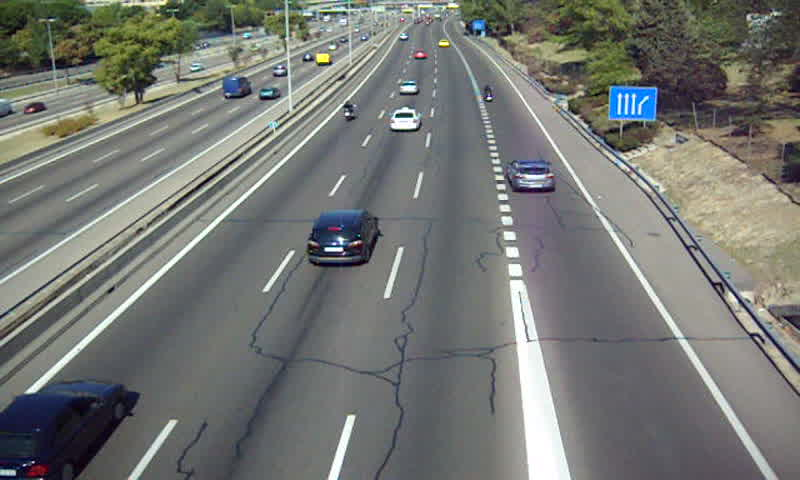car: (1, 381, 126, 480), (308, 210, 380, 264), (507, 159, 555, 193), (390, 108, 420, 131), (398, 79, 420, 95), (411, 50, 429, 61)
motorcycle: (341, 100, 356, 123), (482, 83, 493, 103)
